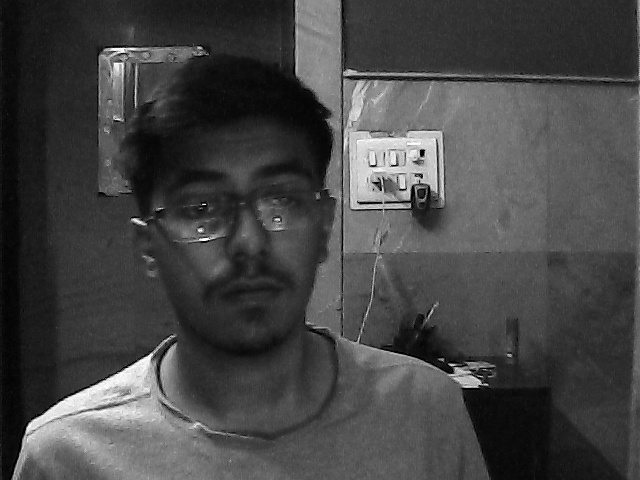nomask: (144, 121, 335, 353)
